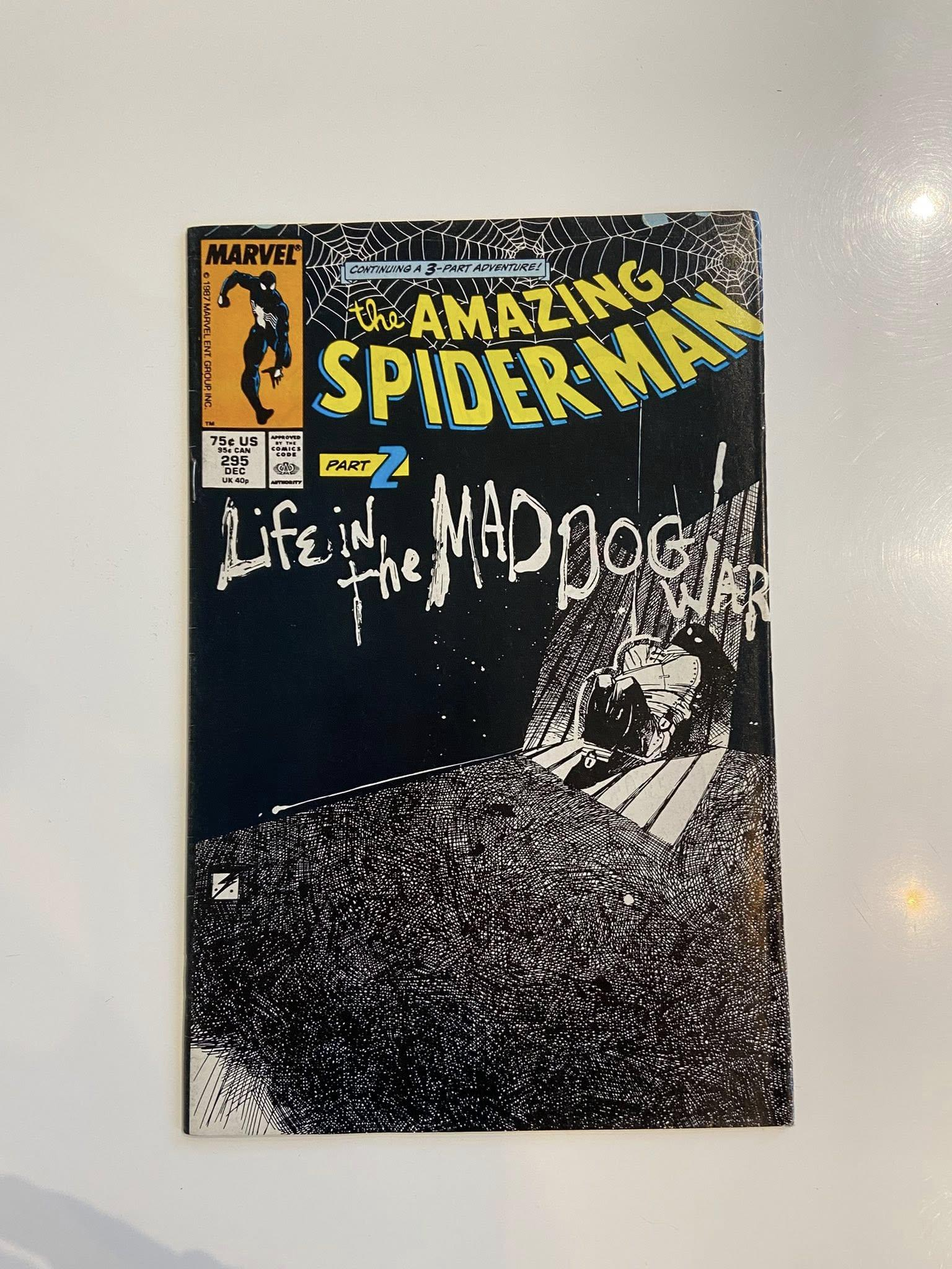comic: (163, 210, 791, 1141)
